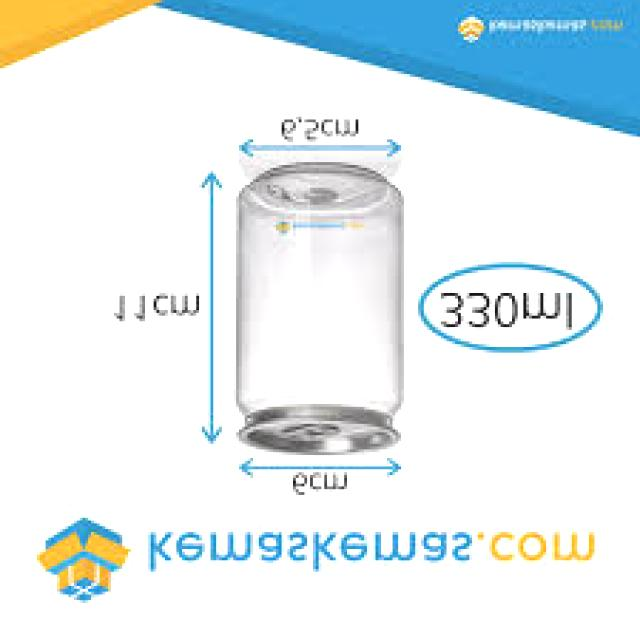bottle: (217, 137, 438, 490)
